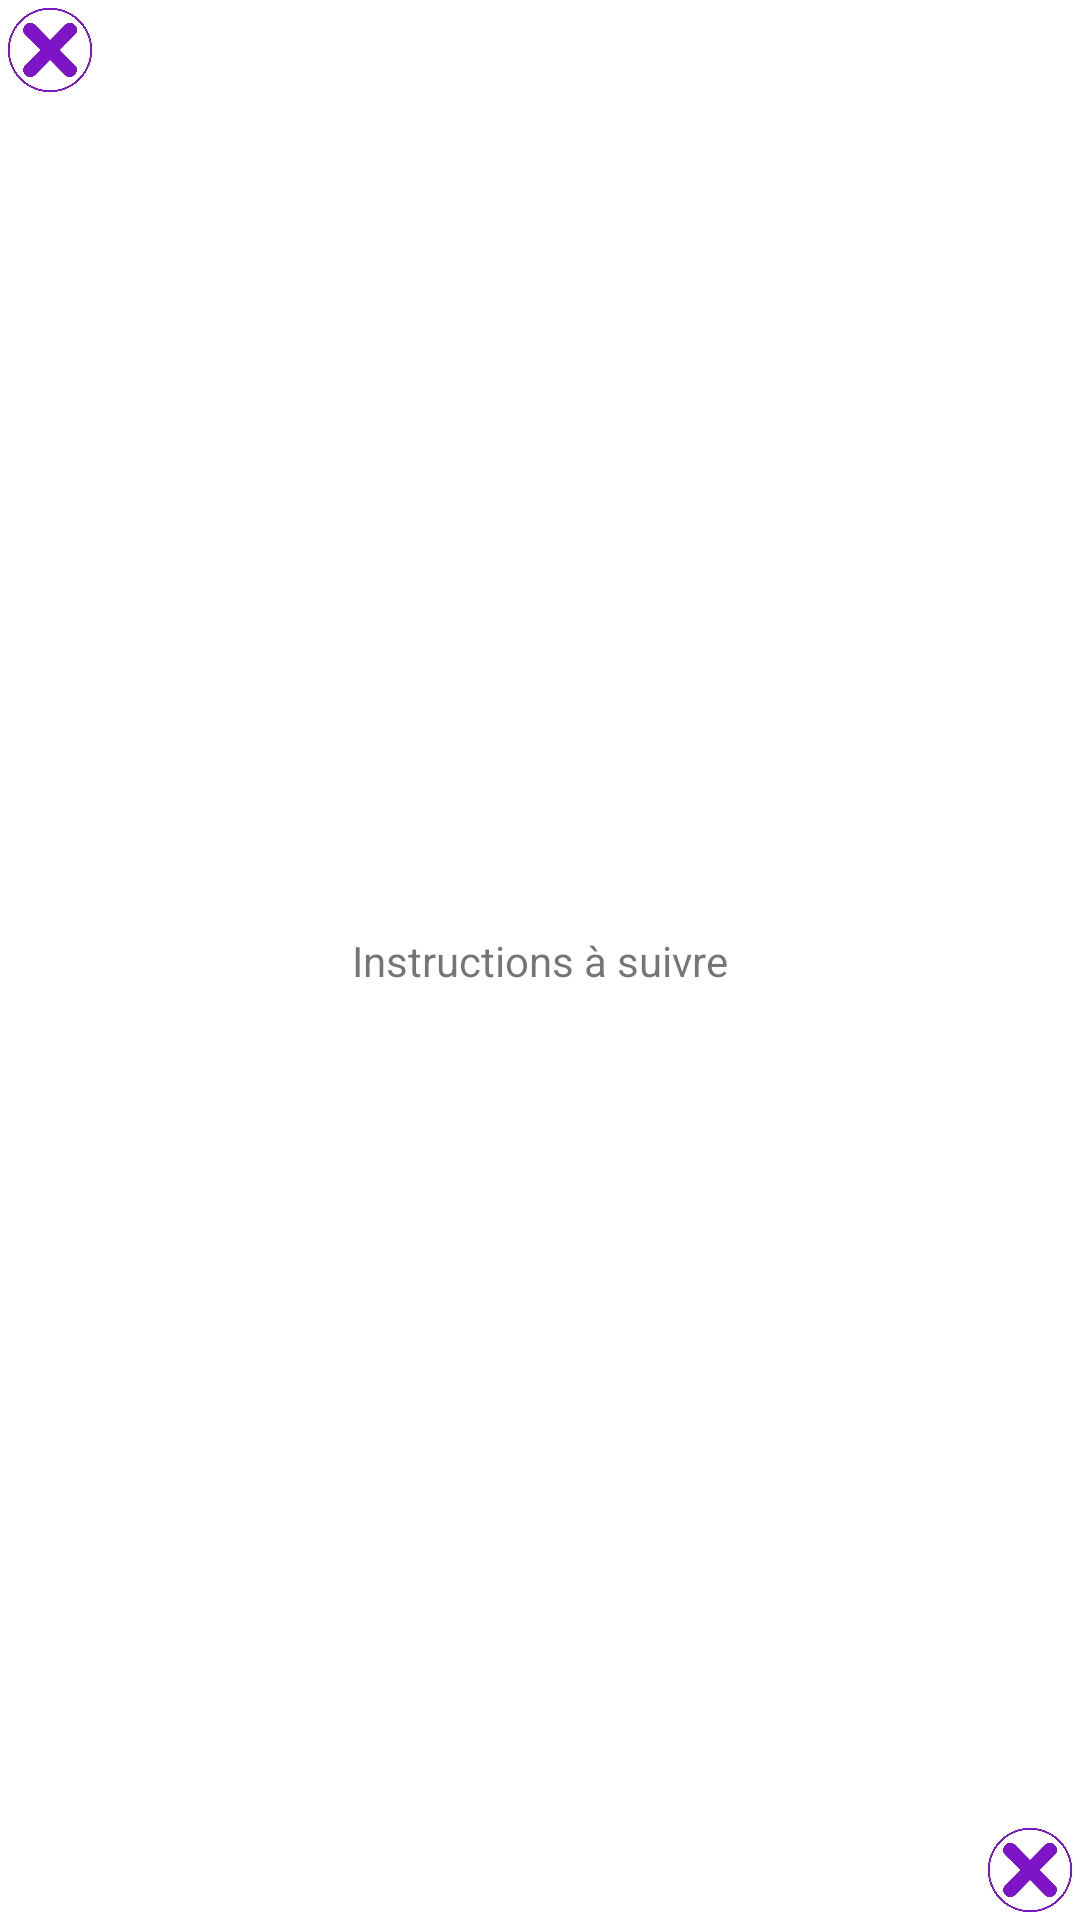

Where to tap for icons on this 1080px×1920px app screen, as [x,y]:
croix: [50,50], [1030,1870]
